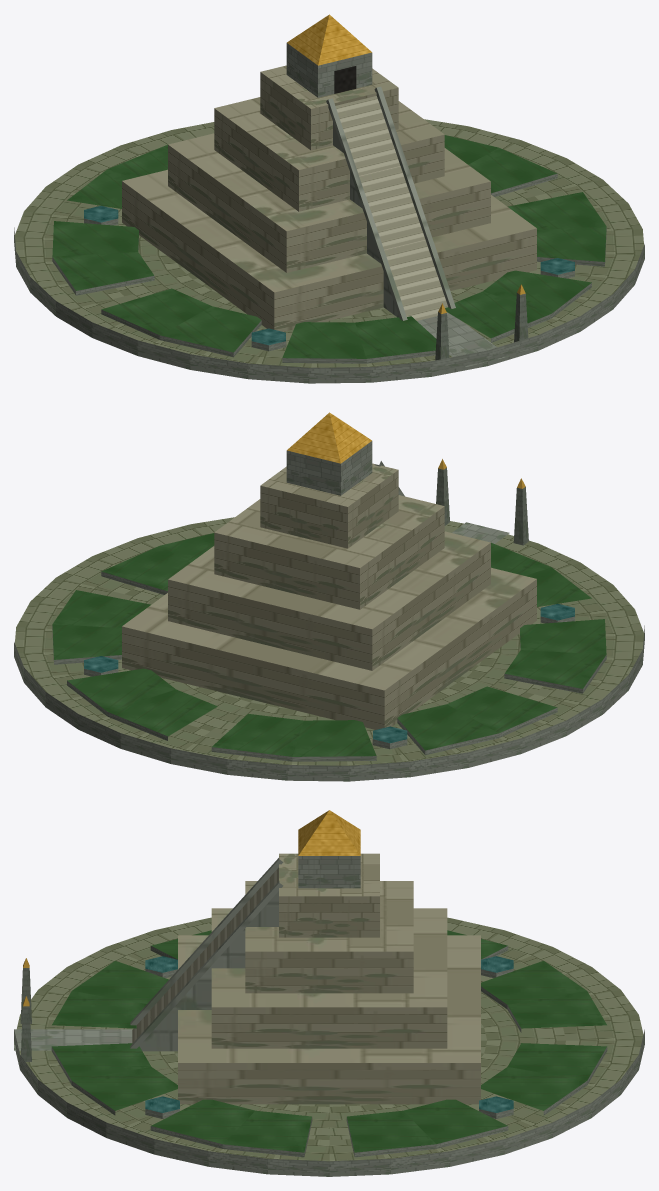
The model's file is pyramid_large_lod1.glb.
3 views of the same model, one above another, from view 1: azimuth 30°, elevation 25°; view 2: azimuth 150°, elevation 25°; view 3: azimuth 270°, elevation 25° (orthographic).
Parts seen in each view (by area): view 1: pyramid_large_lod1; view 2: pyramid_large_lod1; view 3: pyramid_large_lod1.
Boxes of the visible parts, <box> form: pyramid_large_lod1: <box>14,14,644,383</box>; pyramid_large_lod1: <box>14,412,644,781</box>; pyramid_large_lod1: <box>14,810,644,1176</box>.
Size of the model in its own units: 1.89 by 0.779 by 1.9.
Materials: 1 (1 with a texture image).
